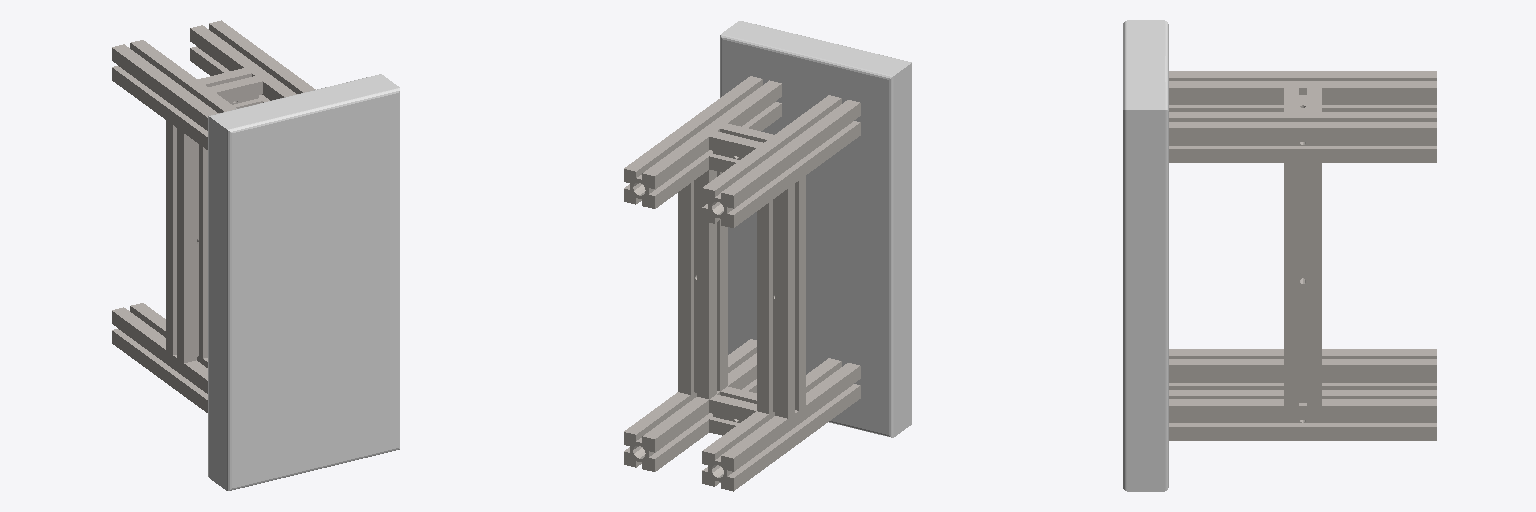
The robot description file, URDF, robot "side_table":
<robot
  name="side_table">
  <link
    name="base_link">
    <inertial>
      <origin
        xyz="0 0 -0.06"
        rpy="0 0 0" />
      <mass
        value="72.459" />
      <inertia
        ixx="0"
        ixy="0"
        ixz="0"
        iyy="0"
        iyz="0"
        izz="0" />
    </inertial>
    <visual>
      <origin
        xyz="0 0 0"
        rpy="0 0 0" />
      <geometry>
        <mesh
          filename="package://side_table/meshes/base_link.STL" />
      </geometry>
      <material
        name="">
        <color
          rgba="0.89804 0.89804 0.89804 1" />
      </material>
    </visual>
    <collision>
      <origin
        xyz="0 0 0"
        rpy="0 0 0" />
      <geometry>
        <mesh
          filename="package://side_table/meshes/base_link.STL" />
      </geometry>
    </collision>
  </link>
  <link
    name="Legs">
    <inertial>
      <origin
        xyz="-0.125 -0.022071 -0.3481"
        rpy="0 0 0" />
      <mass
        value="39.378" />
      <inertia
        ixx="4.8347"
        ixy="1.8474E-05"
        ixz="-0.0025132"
        iyy="5.0464"
        iyz="-0.0018917"
        izz="0.94847" />
    </inertial>
    <visual>
      <origin
        xyz="0 0 0"
        rpy="0 0 0" />
      <geometry>
        <mesh
          filename="package://side_table/meshes/Legs.STL" />
      </geometry>
      <material
        name="">
        <color
          rgba="0.78039 0.76078 0.74118 1" />
      </material>
    </visual>
    <collision>
      <origin
        xyz="0 0 0"
        rpy="0 0 0" />
      <geometry>
        <mesh
          filename="package://side_table/meshes/Legs.STL" />
      </geometry>
    </collision>
  </link>
  <joint
    name="Leg_Surface"
    type="fixed">
    <origin
      xyz="0.125 0.47 -0.35"
      rpy="3.1416 0 0" />
    <parent
      link="base_link" />
    <child
      link="Legs" />
    <axis
      xyz="0 0 0" />
  </joint>
</robot> 

--- Facts derived from the render (not from the file) ---
3 views of the same robot in one strip: view 1: azimuth 30°, elevation 25°; view 2: azimuth 150°, elevation 25°; view 3: azimuth 270°, elevation 25° (orthographic).
Robot: side_table — 2 links, 1 joints (1 fixed); root link base_link; default pose: every joint at zero.
Visible links, largest first — view 1: base_link, Legs; view 2: Legs, base_link; view 3: Legs, base_link.
Link boxes in pixels (<box>): base_link: <box>208,74,399,490</box>; Legs: <box>112,20,315,412</box>; Legs: <box>624,76,860,491</box>; base_link: <box>720,21,911,437</box>; Legs: <box>1169,71,1436,440</box>; base_link: <box>1123,20,1168,491</box>.
Size in the robot's own frame: 0.55 by 0.82 by 1.1 metres.
Meshes: 2 distinct files referenced, 2 mesh visuals loaded (2 binary STL).